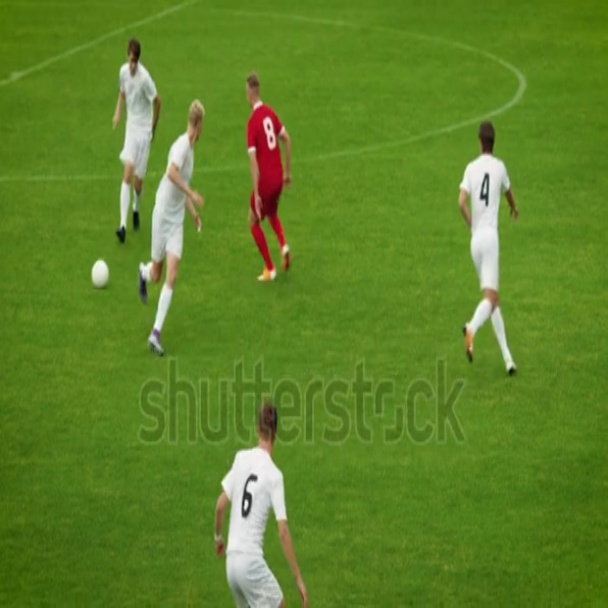ball: (92, 259, 110, 289)
